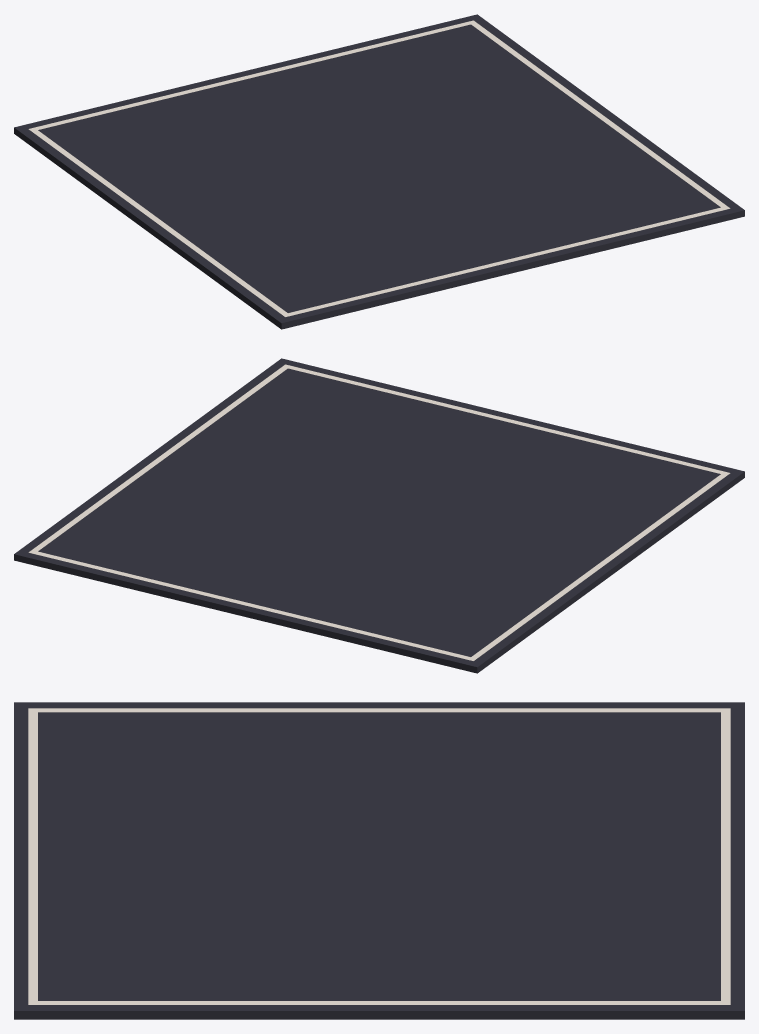
Rendered from intersection.fbx.
3 views of the same model, one above another, from view 1: azimuth 30°, elevation 25°; view 2: azimuth 150°, elevation 25°; view 3: azimuth 270°, elevation 25° (orthographic). The views are drawn at different scales.
Visible parts, largest first — view 1: Cube; view 2: Cube; view 3: Cube.
Part boxes in pixels (x1=…): Cube: x1=14, y1=14, x2=744, y2=329; Cube: x1=14, y1=358, x2=744, y2=673; Cube: x1=14, y1=702, x2=744, y2=1019.
Size of the model in its own units: 1532 by 20 by 1532.
